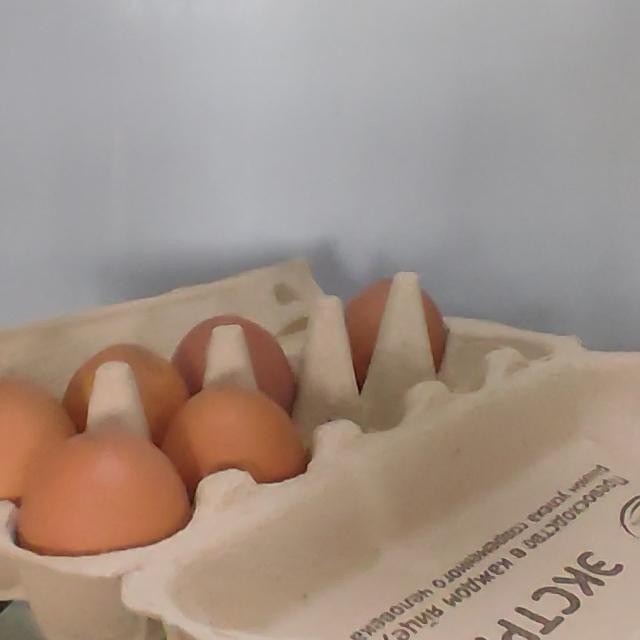egg: (0, 230, 640, 640)
